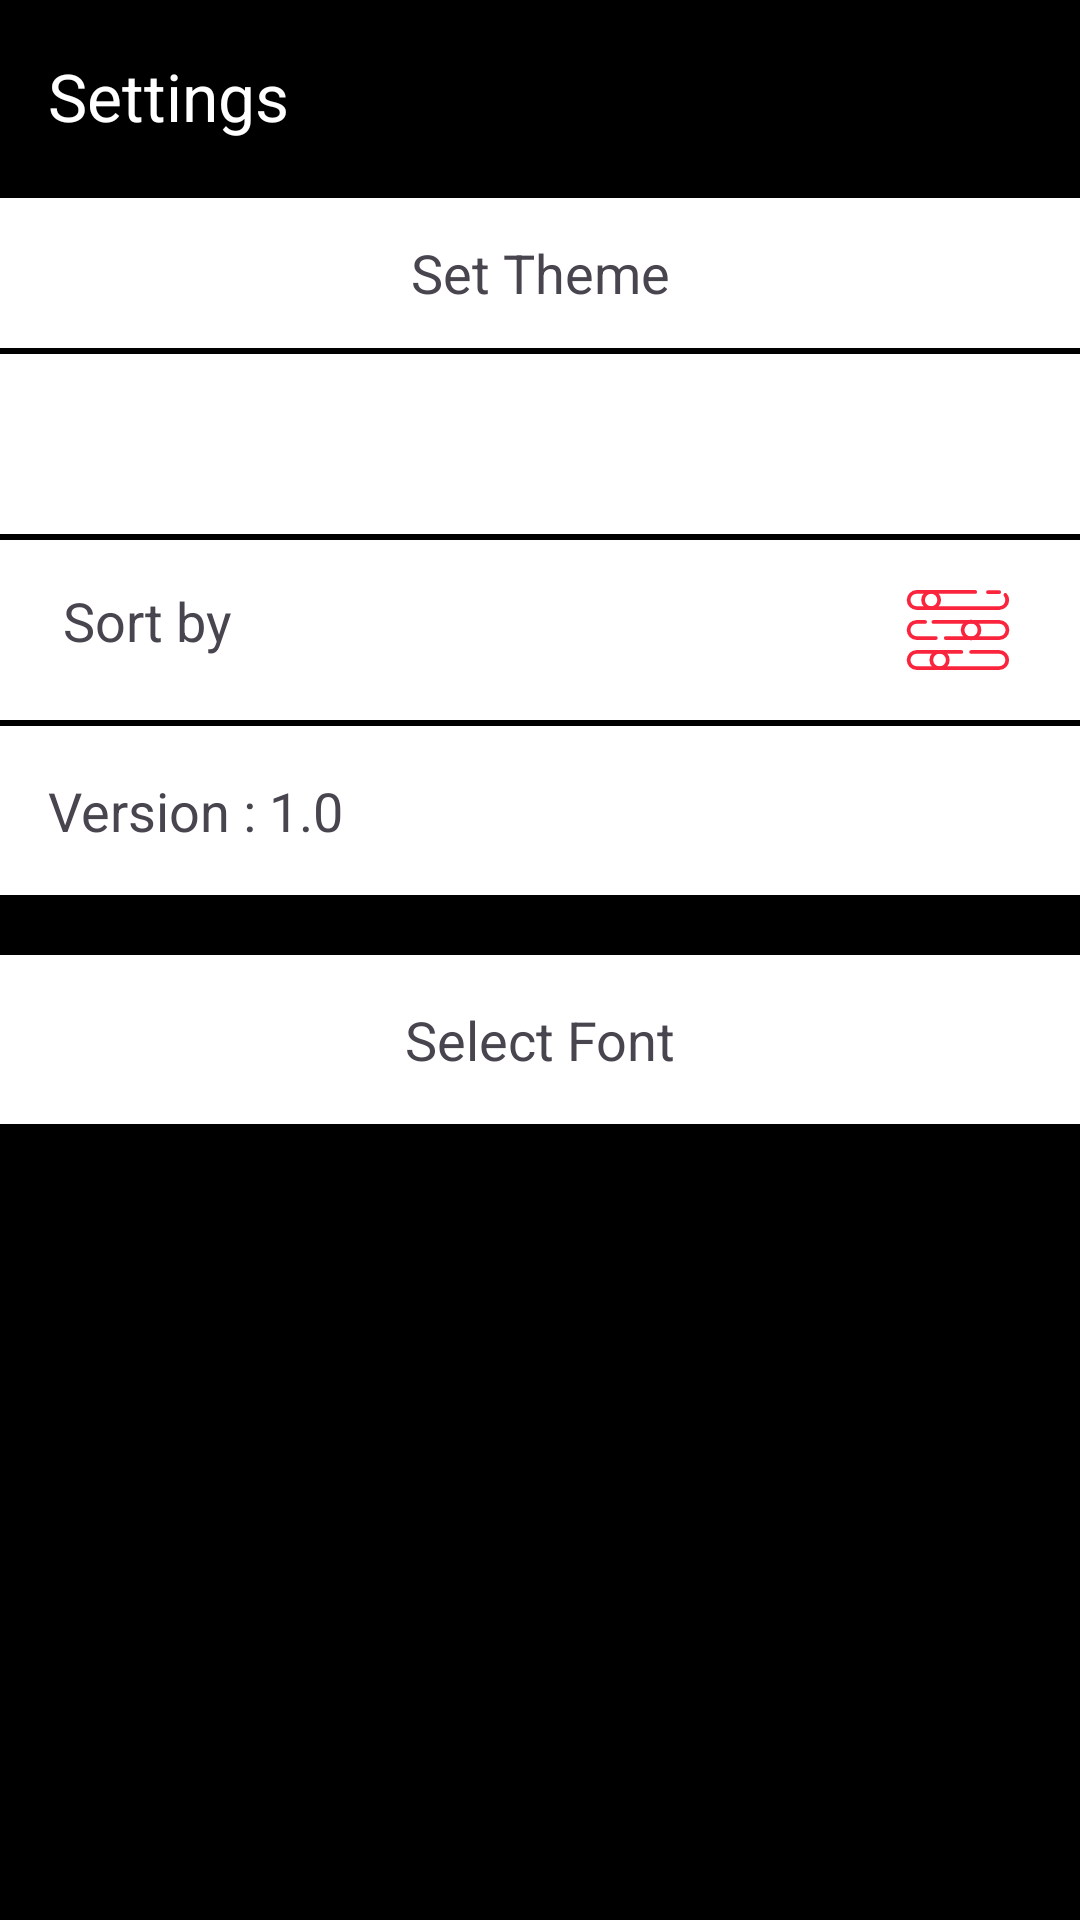

Locate icon controls on the screen. Image size 1080w x 1920h, boxes as region(x1, y1, x2, y2).
setting sort: region(906, 590, 1010, 670)
